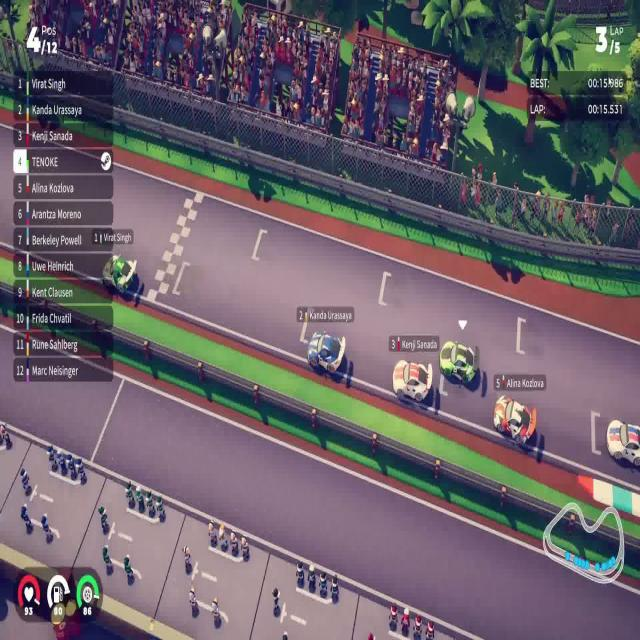car: (492, 394, 537, 446), (306, 329, 346, 376), (392, 358, 432, 404), (439, 340, 477, 386), (102, 253, 138, 296)
